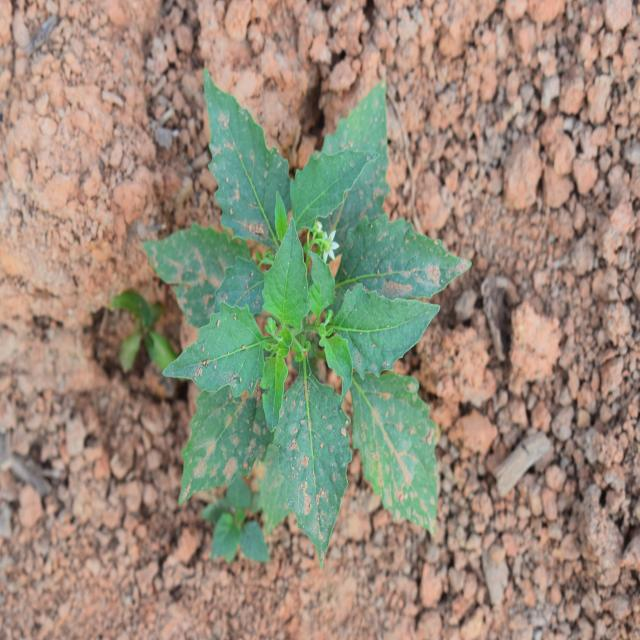Black_nightshade: (158, 80, 442, 518)
